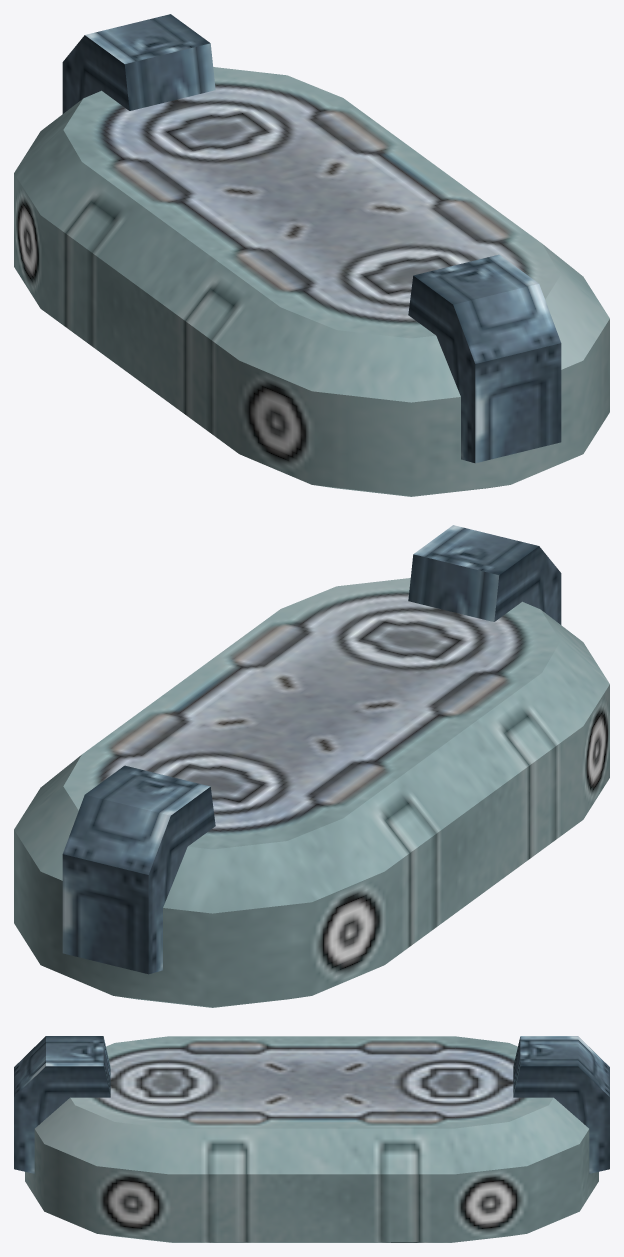
Rendered from Flattube_cap.FBX.
The picture shows the model from 3 angles, top to bottom: view 1: azimuth 30°, elevation 25°; view 2: azimuth 150°, elevation 25°; view 3: azimuth 270°, elevation 25°; orthographic projection. The views are drawn at different scales.
Visible parts, largest first — view 1: Flattube_cap; view 2: Flattube_cap; view 3: Flattube_cap.
Part boxes in pixels (bbox=[...]): Flattube_cap: bbox=[14, 14, 609, 496]; Flattube_cap: bbox=[14, 525, 609, 1007]; Flattube_cap: bbox=[14, 1036, 609, 1242].
Size of the model in its own units: 100 by 56.02 by 208.
